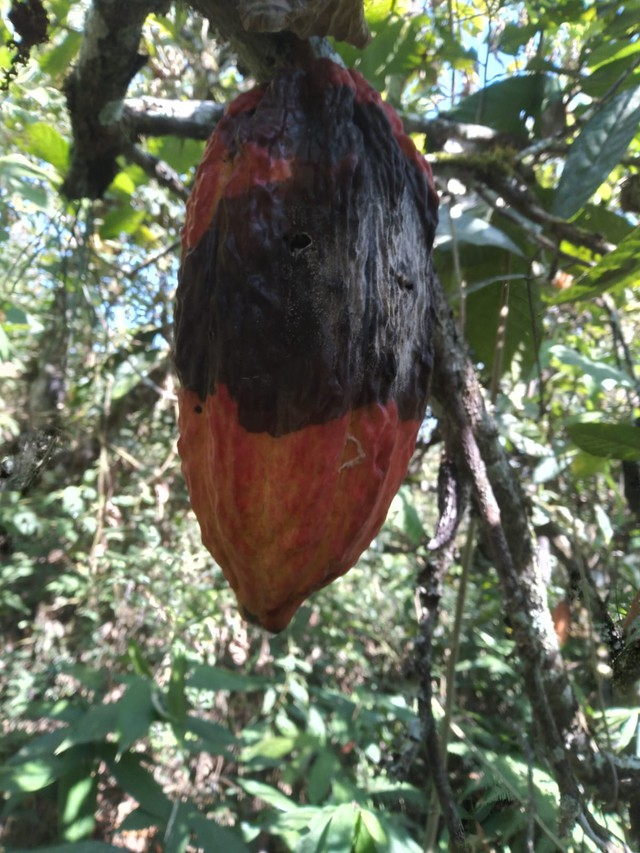moniliophthora roreri: (155, 39, 444, 637)
